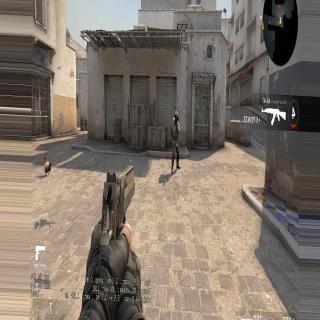CT-Body: (169, 110, 181, 173)
CT-Head: (173, 111, 179, 122)
